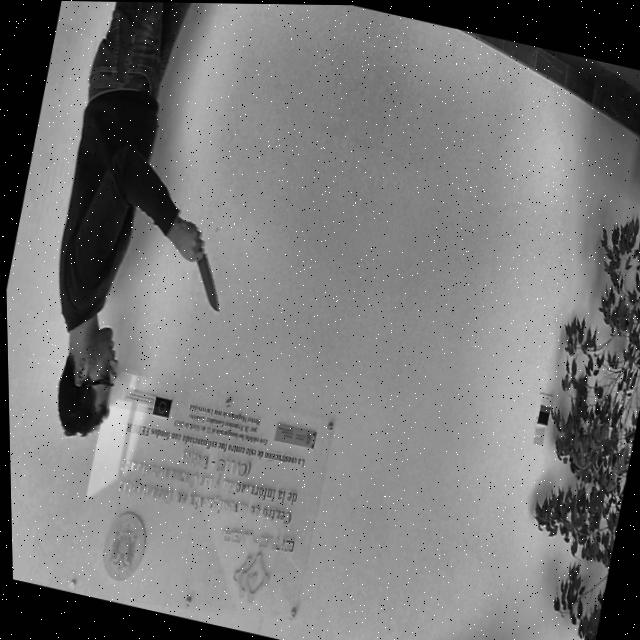knife: (183, 250, 229, 320)
